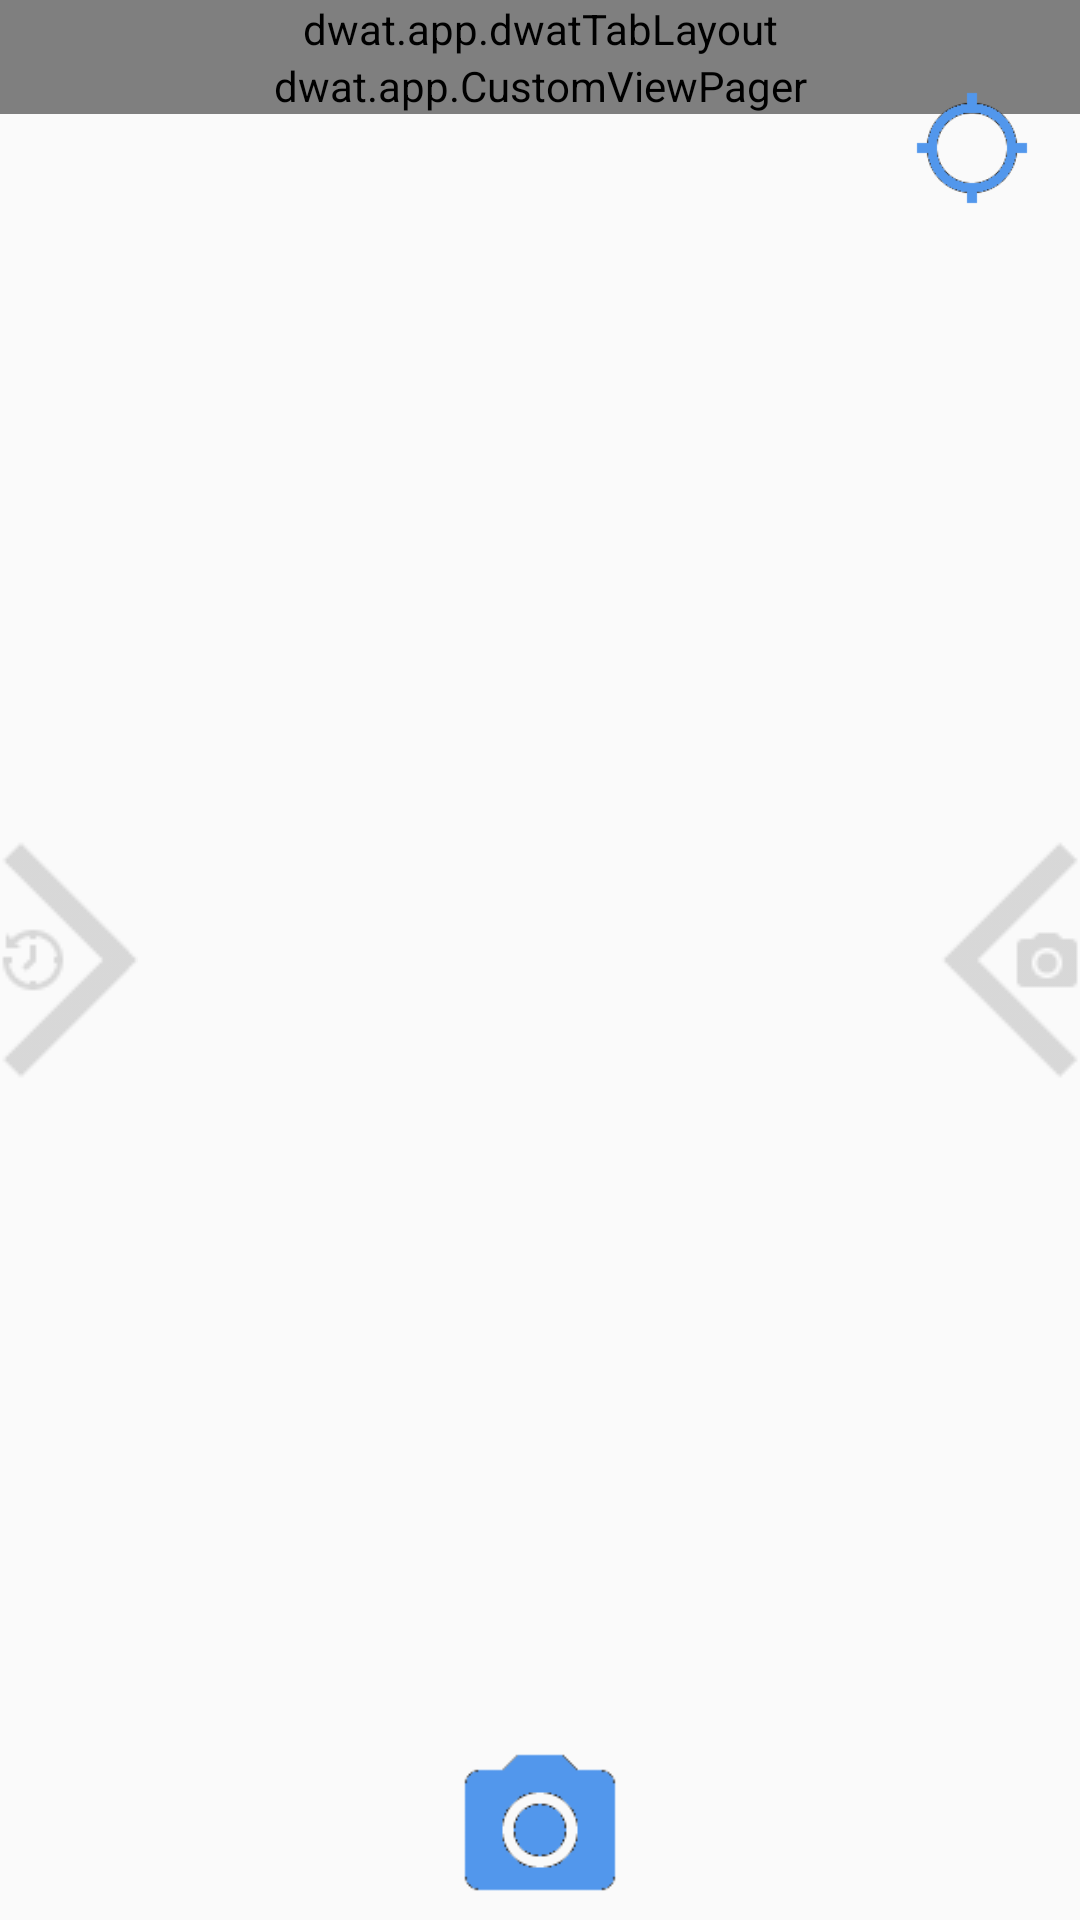

Point at icon controls on the screen. Image size 1080 x 1920, points as [x,y].
cam: [1011,960]
camera: [540,1822]
hist: [69,960]
location: [972,145]
